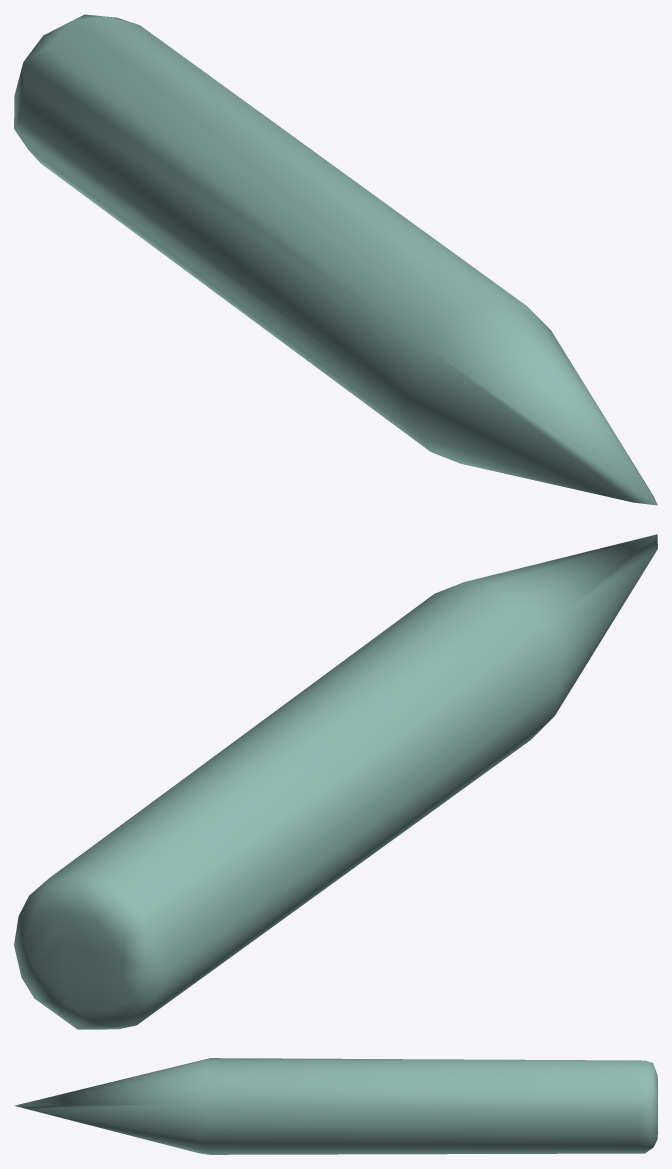
The picture shows the model from 3 angles, top to bottom: view 1: azimuth 30°, elevation 25°; view 2: azimuth 150°, elevation 25°; view 3: azimuth 270°, elevation 25°; orthographic projection. The views are drawn at different scales.
Bounding box in the file's own units: 0.3013 × 0.2994 × 2.
